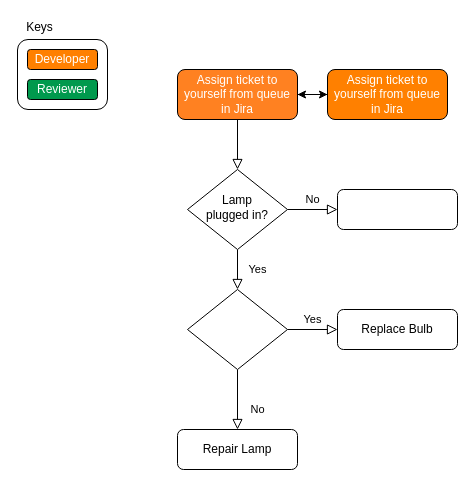
Image size: 475x487. Some labels were removed from this diagram. The shapes that lost their labels are listed below. From the top down, each one's centre as x and y in pixels, then its label:
At (x=397, y=209): "Plug in lamp".
At (x=237, y=329): "Bulb burned out?".
